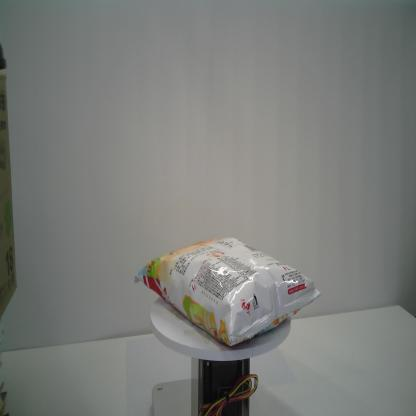Puffed Food: (131, 234, 320, 350)
